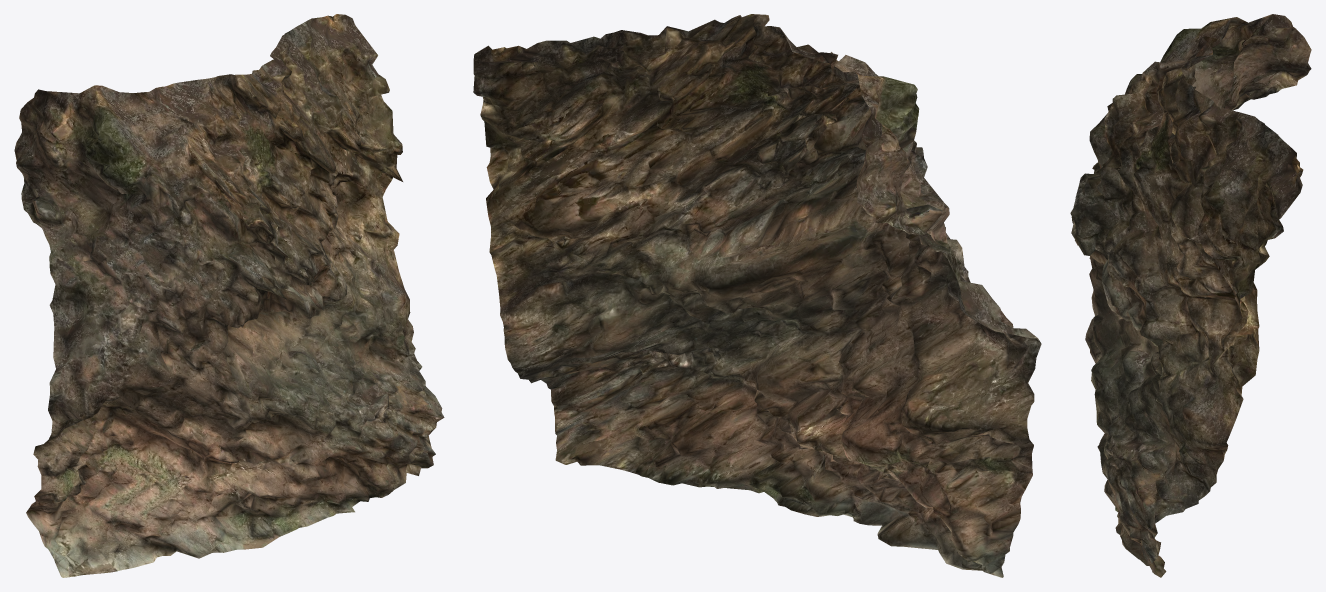
File: mountainside.glb
3 views of the same model, side by side, from view 1: azimuth 30°, elevation 25°; view 2: azimuth 150°, elevation 25°; view 3: azimuth 270°, elevation 25° (orthographic). The views are drawn at different scales.
Visible parts, largest first — view 1: mountainside; view 2: mountainside; view 3: mountainside.
Boxes of the visible parts, x1,y1,x2,y2 form: mountainside: (14,14,444,577); mountainside: (473,14,1041,577); mountainside: (1070,14,1311,577).
Size of the model in its own units: 10.2 by 10.52 by 5.25.
1 material, 1 textured.
